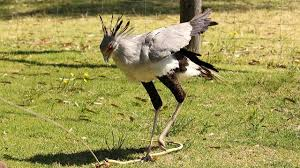Walking: (77, 1, 240, 164)
